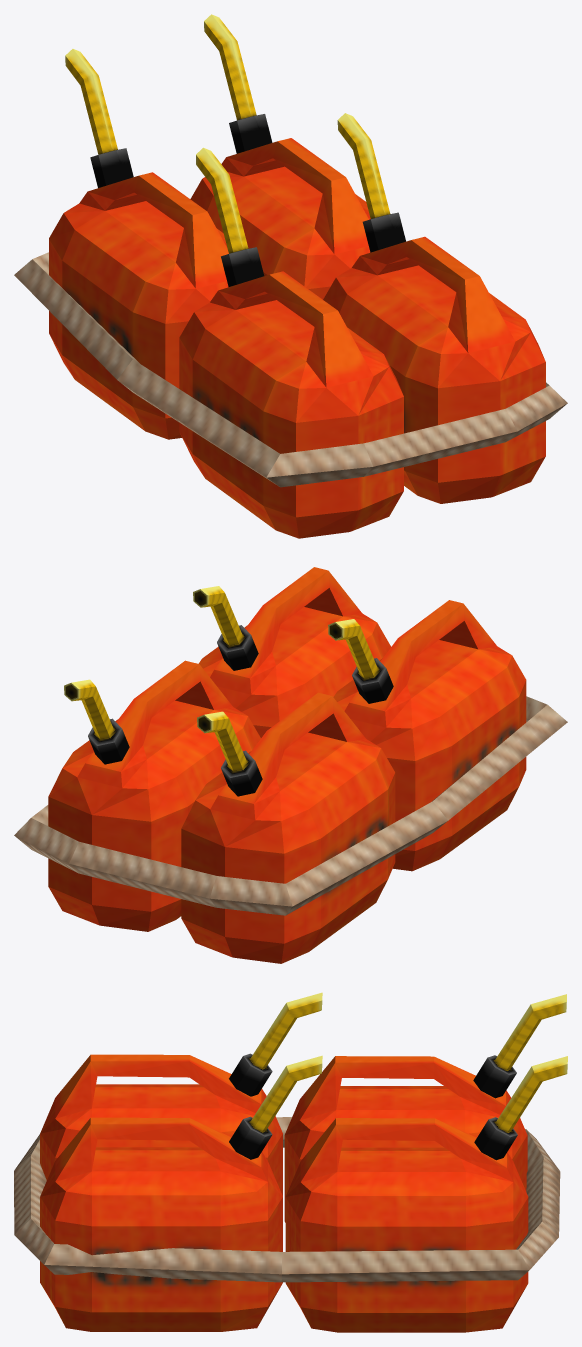
File: stack_of_petrolcans.fbx
The picture shows the model from 3 angles, top to bottom: view 1: azimuth 30°, elevation 25°; view 2: azimuth 150°, elevation 25°; view 3: azimuth 270°, elevation 25°; orthographic projection. The views are drawn at different scales.
Parts seen in each view (by area): view 1: PetrolCanPack; view 2: PetrolCanPack; view 3: PetrolCanPack.
Boxes of the visible parts, x1,y1,x2,y2 form: PetrolCanPack: [14, 14, 567, 538]; PetrolCanPack: [14, 567, 567, 963]; PetrolCanPack: [14, 992, 567, 1332].
Bounding box in the file's own units: 0.3244 × 0.2666 × 0.509.
